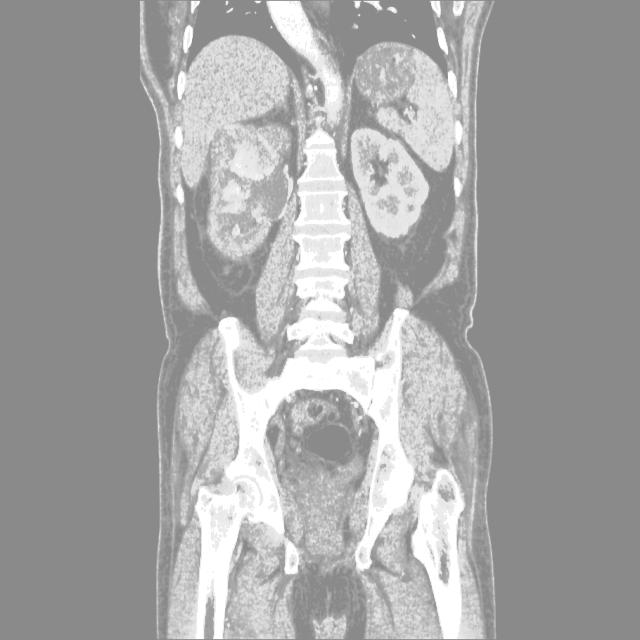TUMOR: (182, 135, 448, 278)
